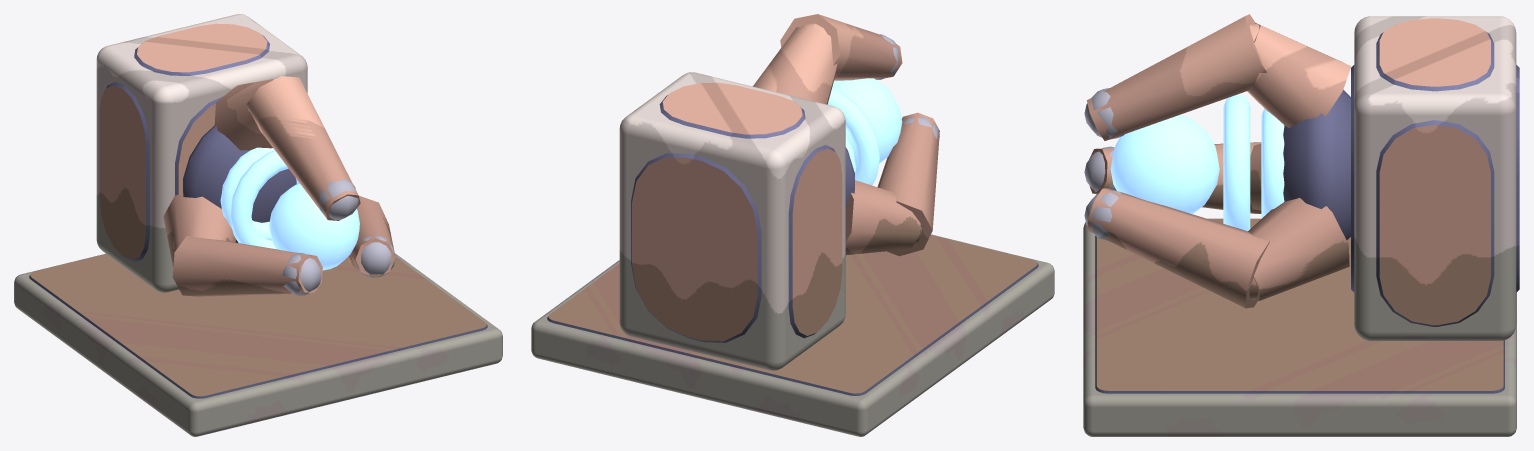
The model's file is R4X_DirectionalEMP.glb.
3 views of the same model, side by side, from view 1: azimuth 30°, elevation 25°; view 2: azimuth 150°, elevation 25°; view 3: azimuth 270°, elevation 25° (orthographic). The views are drawn at different scales.
Parts seen in each view (by area): view 1: R4X_DirectionalEMP_Body; view 2: R4X_DirectionalEMP_Body; view 3: R4X_DirectionalEMP_Body.
Boxes of the visible parts, box(x1,y1,x2,y2) form: R4X_DirectionalEMP_Body: box(14, 14, 502, 436); R4X_DirectionalEMP_Body: box(531, 14, 1054, 436); R4X_DirectionalEMP_Body: box(1083, 14, 1519, 436).
Size of the model in its own units: 0.514 by 0.4373 by 0.517.
5 materials, 4 textured.
